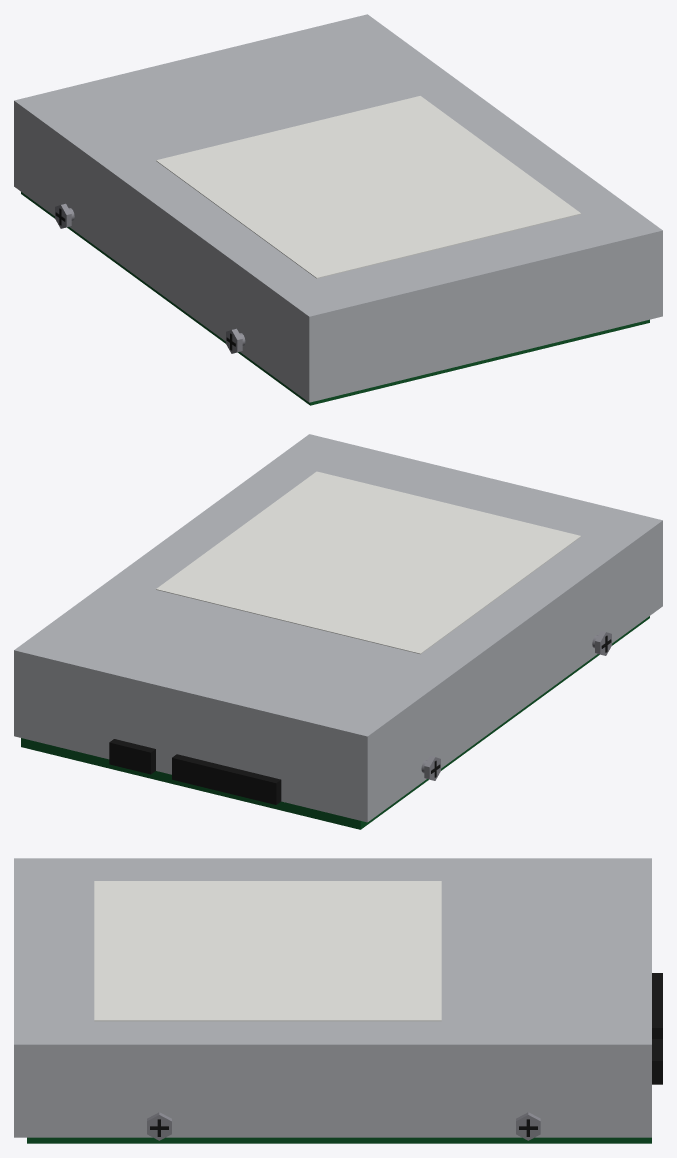
Rendered from HardDrive.fbx.
3 views of the same model, one above another, from view 1: azimuth 30°, elevation 25°; view 2: azimuth 150°, elevation 25°; view 3: azimuth 270°, elevation 25° (orthographic). The views are drawn at different scales.
Parts seen in each view (by area): view 1: HD_Body, HD_Label, HD_PCB; view 2: HD_Body, HD_Label, HD_PCB, HD_SATA_Power, HD_SATA_Data; view 3: HD_Body, HD_Label, HD_PCB, HD_SATA_Power, Screw_0, Screw_1, HD_SATA_Data.
Boxes of the visible parts, bbox=[...] form: HD_Body: bbox=[14, 14, 662, 402]; HD_Label: bbox=[156, 96, 581, 278]; HD_PCB: bbox=[21, 192, 649, 405]; HD_Body: bbox=[14, 434, 662, 822]; HD_Label: bbox=[156, 471, 581, 654]; HD_PCB: bbox=[21, 616, 649, 829]; HD_SATA_Power: bbox=[172, 754, 281, 804]; HD_SATA_Data: bbox=[109, 739, 155, 774]; HD_Body: bbox=[14, 858, 651, 1137]; HD_Label: bbox=[94, 881, 441, 1021]; HD_PCB: bbox=[27, 1137, 651, 1143]; HD_SATA_Power: bbox=[652, 973, 662, 1038]; Screw_0: bbox=[516, 1112, 540, 1140]; Screw_1: bbox=[147, 1112, 171, 1140]; HD_SATA_Data: bbox=[652, 1039, 662, 1084].
Bounding box in the file's own units: 10.8 × 2.63 × 14.95.
